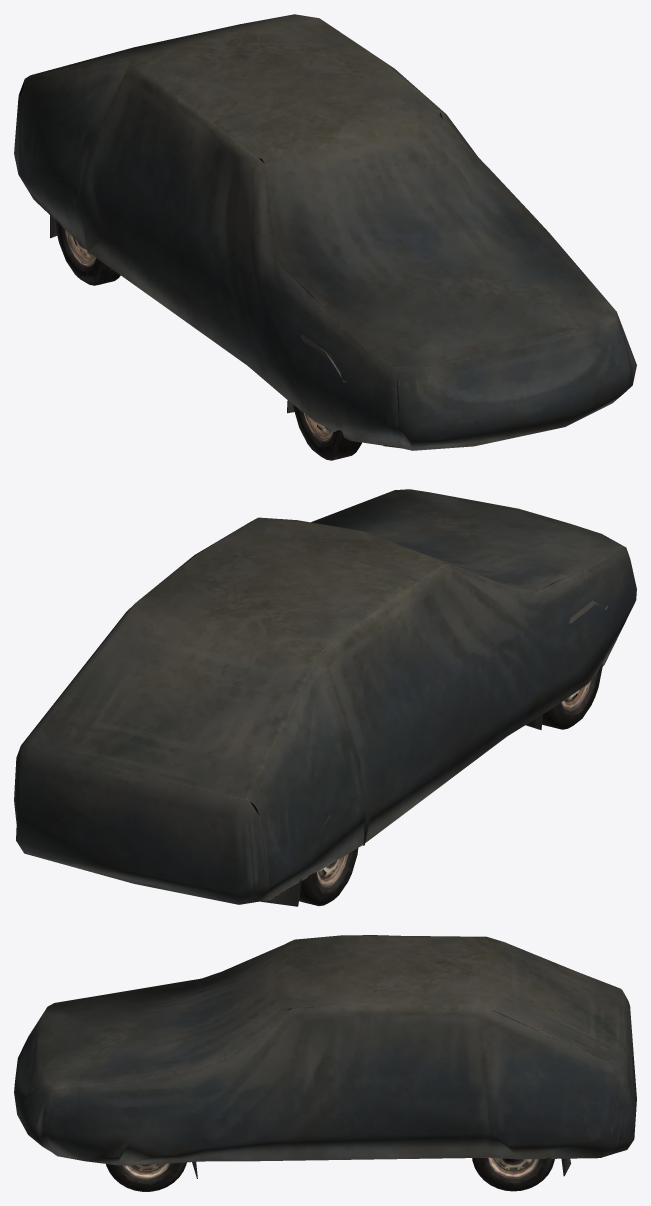
The model's file is covered_car.glb.
3 views of the same model, one above another, from view 1: azimuth 30°, elevation 25°; view 2: azimuth 150°, elevation 25°; view 3: azimuth 270°, elevation 25° (orthographic). The views are drawn at different scales.
Parts seen in each view (by area): view 1: covered_car, covered_car_wheel_03, covered_car_wheel_02; view 2: covered_car, covered_car_wheel_03, covered_car_wheel_02; view 3: covered_car, covered_car_wheel_04, covered_car_wheel_01.
Part boxes in pixels (x1=…): covered_car: x1=14, y1=14, x2=636, y2=450; covered_car_wheel_03: x1=55, y1=219, x2=120, y2=285; covered_car_wheel_02: x1=293, y1=405, x2=361, y2=460; covered_car: x1=14, y1=489, x2=636, y2=906; covered_car_wheel_03: x1=299, y1=848, x2=358, y2=905; covered_car_wheel_02: x1=542, y1=663, x2=602, y2=729; covered_car: x1=14, y1=935, x2=636, y2=1178; covered_car_wheel_04: x1=472, y1=1157, x2=554, y2=1191; covered_car_wheel_01: x1=106, y1=1162, x2=186, y2=1191.
Size of the model in its own units: 1.79 by 1.41 by 4.38.
Materials: 1 (1 with a texture image).
